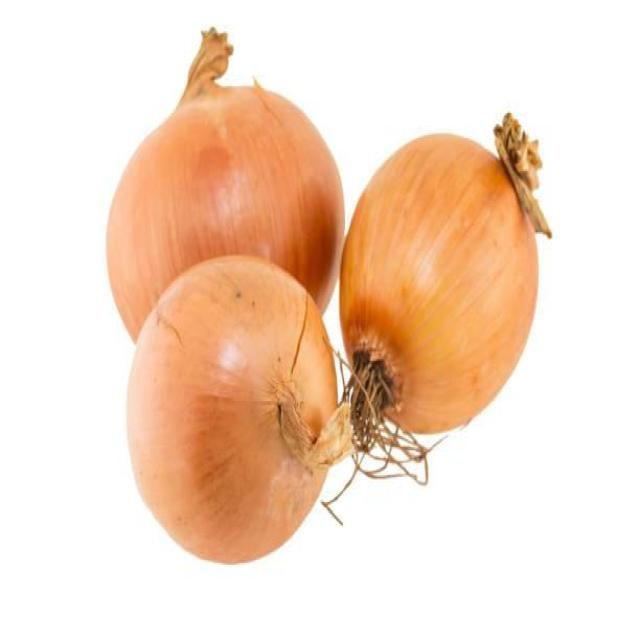Onion: (339, 113, 551, 483), (106, 30, 344, 339), (128, 259, 349, 560)
